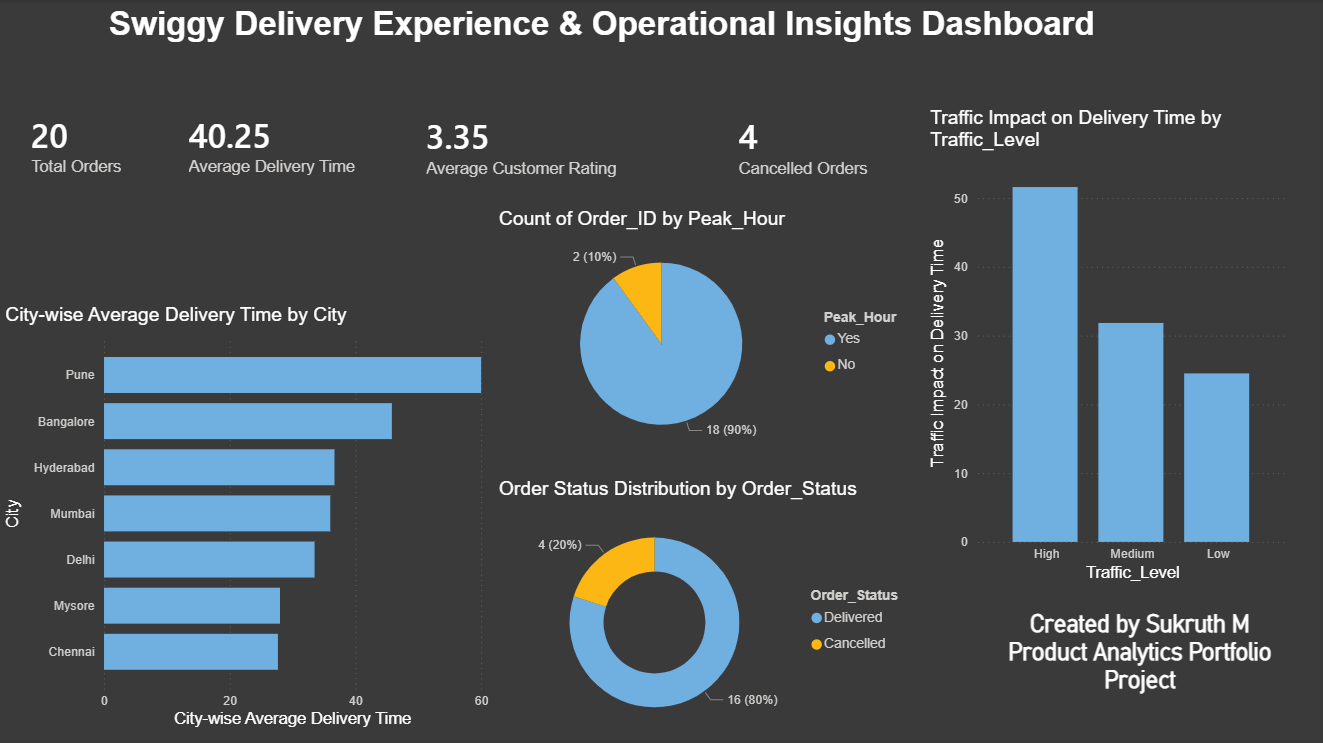

What the dashboard file says about the page in this screenshot:
{"tool":"powerbi","page":{"name":"Page 1","canvas":[1280,720],"ordinal":0},"visuals":[{"type":"cardVisual","fields":{"Data":["CountNonNull(Sheet1.Order_ID)"]},"box":[0,88.1,152,100.1],"z":0},{"type":"cardVisual","fields":{"Data":["Avg(Sheet1.Delivery_Time_Minutes)"]},"box":[152,88.1,229.2,100.1],"z":1},{"type":"cardVisual","fields":{"Data":["Avg(Sheet1.Customer_Rating)"]},"box":[381.2,89.3,253.4,100.1],"z":2},{"type":"cardVisual","fields":{"Data":["CountNonNull(Sheet1.Order_Status)"]},"box":[682.8,89.3,206.3,100.1],"z":3},{"type":"clusteredBarChart","fields":{"Category":["Sheet1.City"],"Y":["Avg(Sheet1.Delivery_Time_Minutes)"]},"box":[0,293.2,476.5,413.8],"z":4},{"type":"clusteredColumnChart","fields":{"Category":["Sheet1.Traffic_Level"],"Y":["Avg(Sheet1.Delivery_Time_Minutes)"]},"box":[892.8,102.5,354.7,463.3],"z":5},{"type":"pieChart","fields":{"Category":["Sheet1.Peak_Hour"],"Y":["CountNonNull(Sheet1.Order_ID)"]},"box":[476.5,200.3,412.6,242.5],"z":6},{"type":"donutChart","fields":{"Category":["Sheet1.Order_Status"],"Y":["CountNonNull(Sheet1.Order_ID)"]},"box":[476.5,460.9,412.6,259.4],"z":7},{"type":"textbox","box":[91.7,0,978.4,88.1],"z":8},{"type":"textbox","box":[953.1,582.7,294.4,137.5],"z":9}]}

Visuals, with their boxes in screenshot pixels (x1, y1, x2, y2), scaled from the page's 1280x720 canvas onto the 1323x743 screenshot:
cardVisual - CountNonNull(Sheet1.Order_ID): pyautogui.locateOnScreen(0, 91, 157, 194)
cardVisual - Avg(Sheet1.Delivery_Time_Minutes): pyautogui.locateOnScreen(157, 91, 394, 194)
cardVisual - Avg(Sheet1.Customer_Rating): pyautogui.locateOnScreen(394, 92, 656, 195)
cardVisual - CountNonNull(Sheet1.Order_Status): pyautogui.locateOnScreen(706, 92, 919, 195)
clusteredBarChart - Sheet1.City x Avg(Sheet1.Delivery_Time_Minutes): pyautogui.locateOnScreen(0, 303, 493, 730)
clusteredColumnChart - Sheet1.Traffic_Level x Avg(Sheet1.Delivery_Time_Minutes): pyautogui.locateOnScreen(923, 106, 1289, 584)
pieChart - Sheet1.Peak_Hour x CountNonNull(Sheet1.Order_ID): pyautogui.locateOnScreen(493, 207, 919, 457)
donutChart - Sheet1.Order_Status x CountNonNull(Sheet1.Order_ID): pyautogui.locateOnScreen(493, 476, 919, 742)
textbox: pyautogui.locateOnScreen(95, 0, 1106, 91)
textbox: pyautogui.locateOnScreen(985, 601, 1289, 742)
